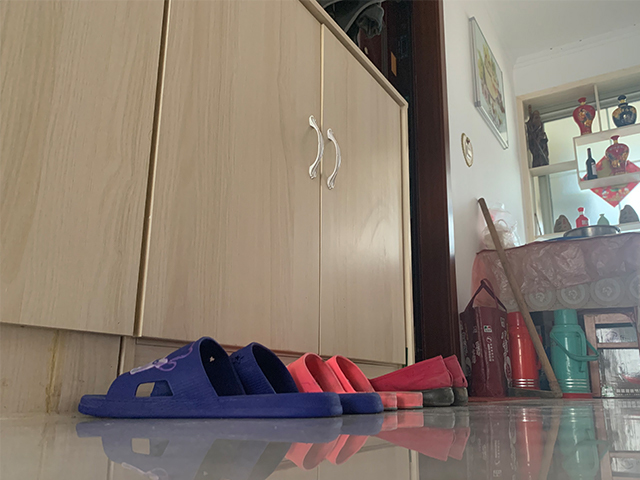cabinet: (1, 1, 417, 417)
carpet: (465, 395, 539, 403)
slippers: (77, 336, 342, 419), (236, 341, 380, 412), (326, 354, 425, 410)
stool: (585, 311, 639, 397)
